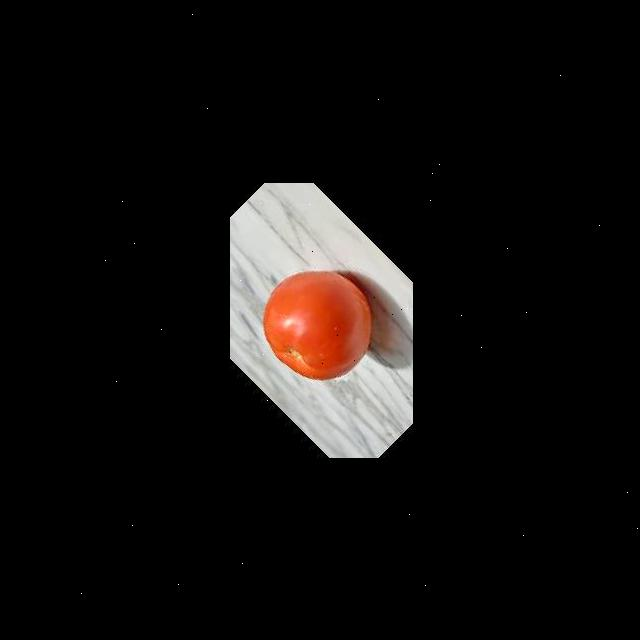tomato: (260, 268, 376, 399)
